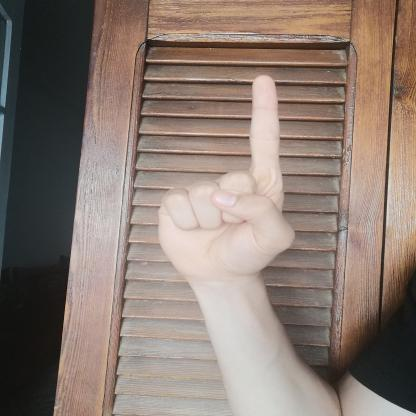BAA: (142, 64, 302, 292)
